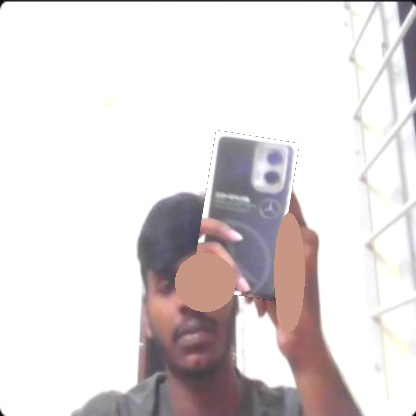cell_phone: (190, 130, 299, 301)
